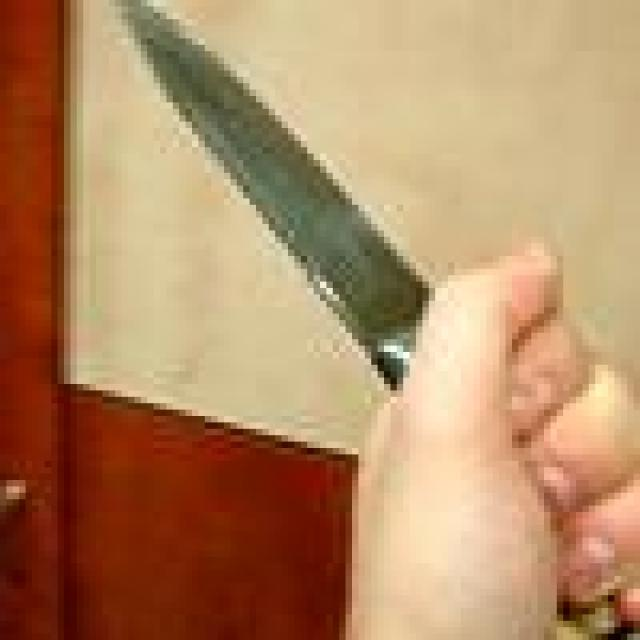knife: (122, 1, 408, 376)
